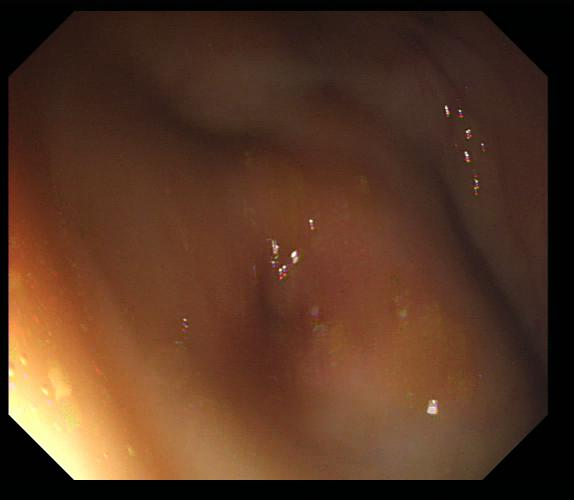polyp: (300, 309, 532, 471)
